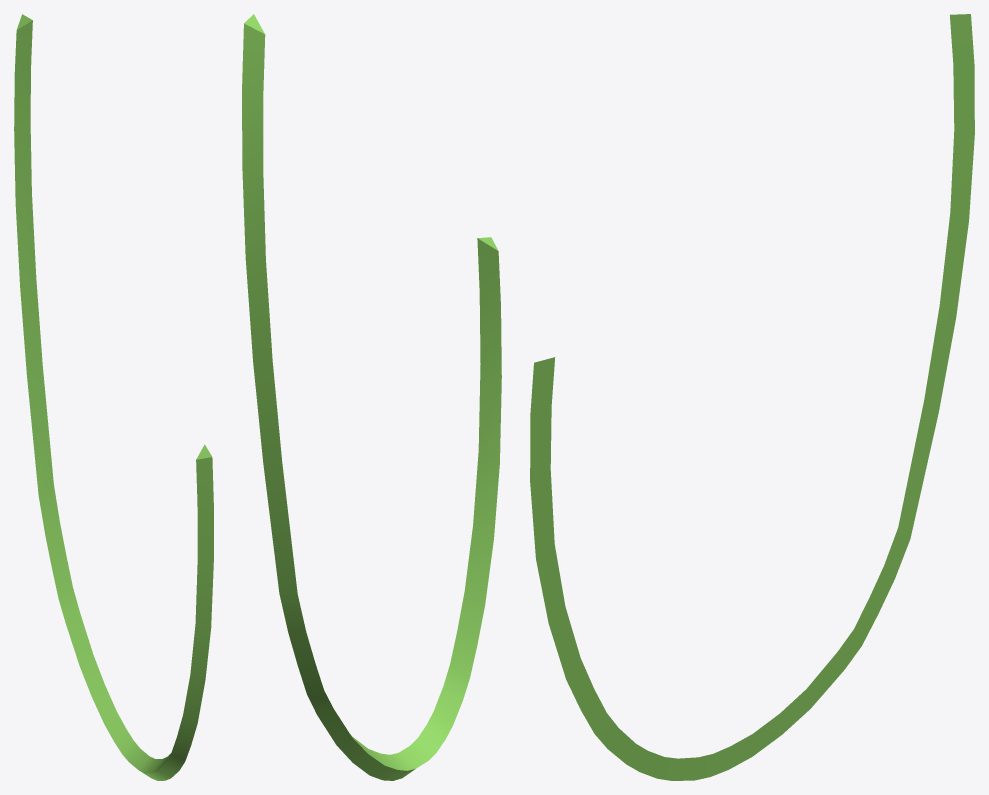
The model's file is lianas_I.fbx.
The picture shows the model from 3 angles, left to right: view 1: azimuth 30°, elevation 25°; view 2: azimuth 150°, elevation 25°; view 3: azimuth 270°, elevation 25°; orthographic projection. The views are drawn at different scales.
Parts seen in each view (by area): view 1: liana_I_thick; view 2: liana_I_thick; view 3: liana_I_thick, liana_I.
Boxes of the visible parts, <box> form: liana_I_thick: <box>14,14,213,780</box>; liana_I_thick: <box>242,14,501,780</box>; liana_I_thick: <box>537,14,974,780</box>; liana_I: <box>530,75,953,780</box>.
Size of the model in its own units: 3.52 by 153 by 80.46.
